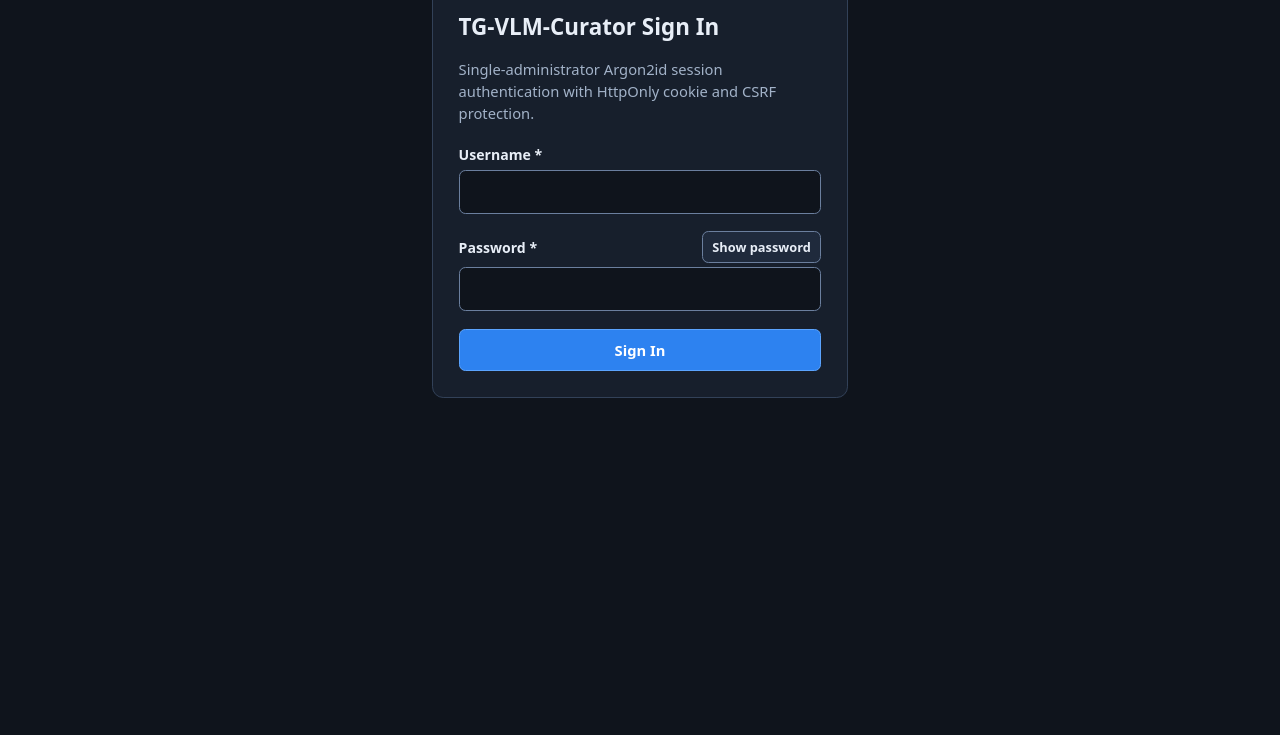
Scenario: TG-VLM-Curator M9 Web Administration Console › authenticates with autofill-compliant login form, attaches X-CSRF-Token on mutations, and logs out
This screenshot has width=1280, height=735.
Click the button "Show password": (762,247) x1=702 y1=231 x2=821 y2=263
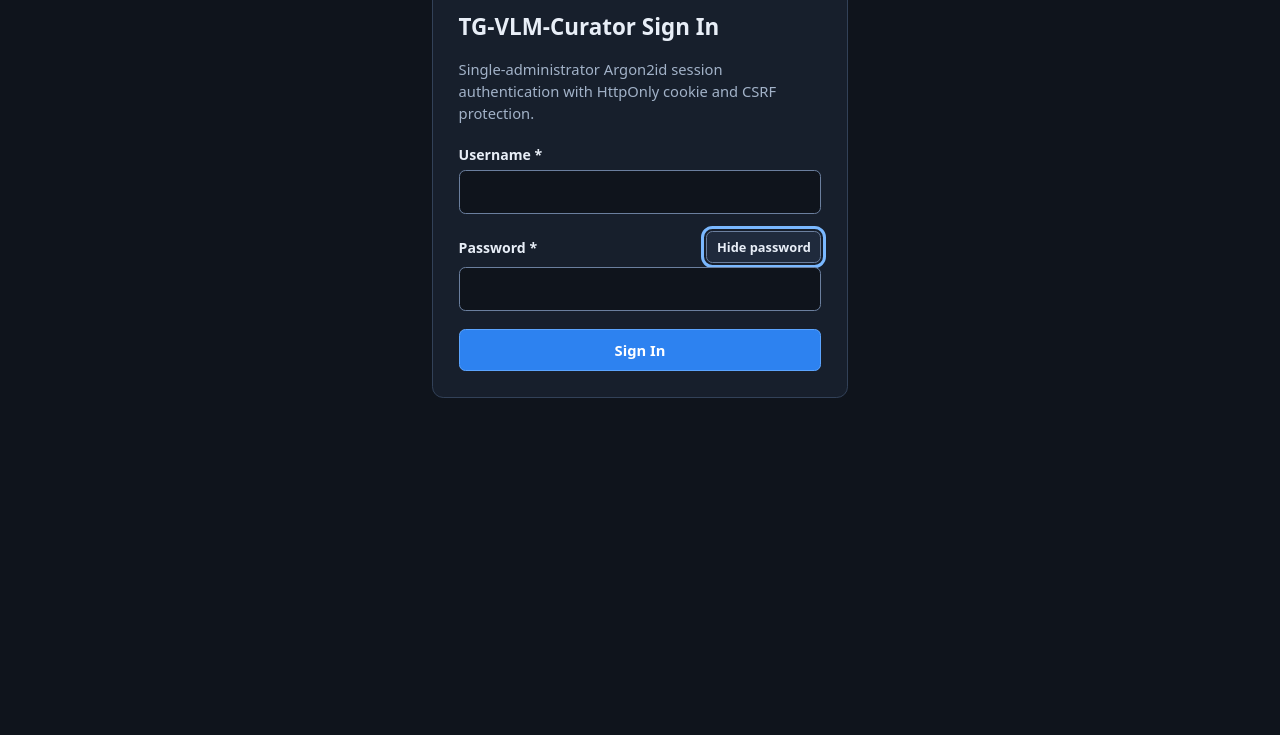
In the field labelled "Username *": (640,192) x1=459 y1=170 x2=821 y2=214, type "curator_admin"
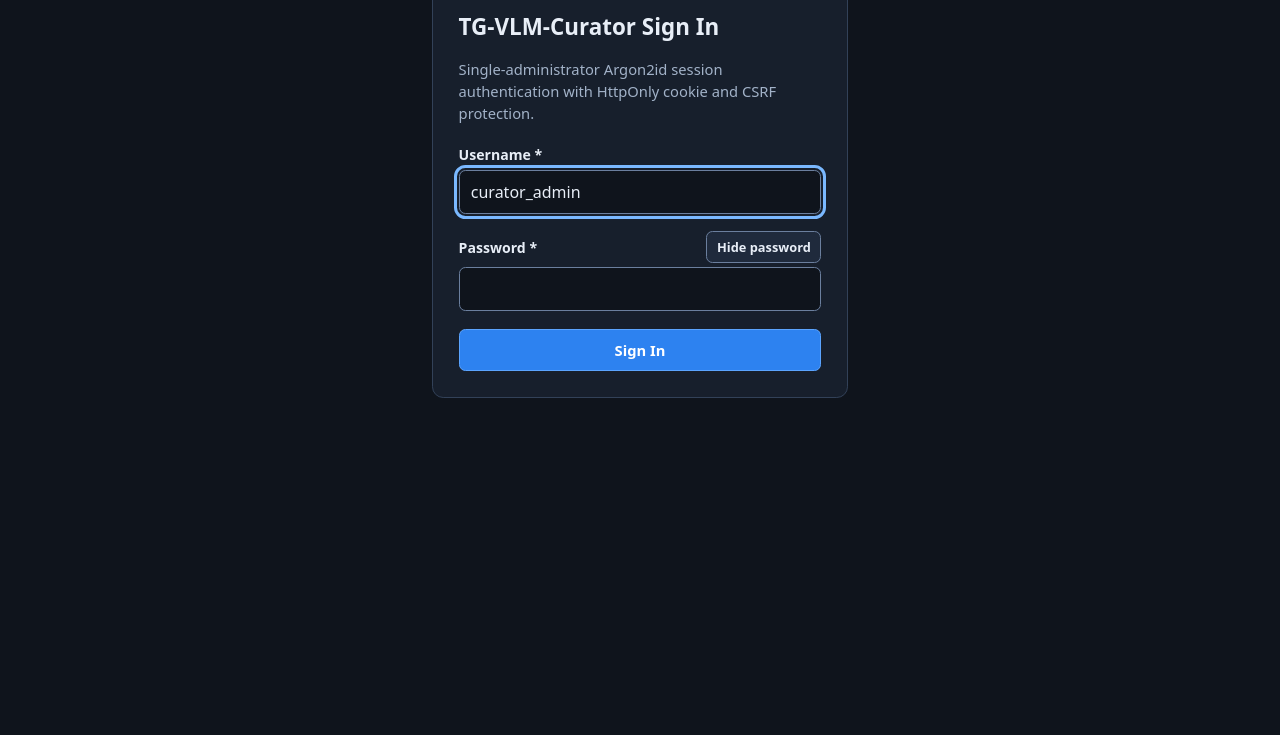
In the field labelled "Password *": (640,289) x1=459 y1=267 x2=821 y2=311, type "s3cr3t!"
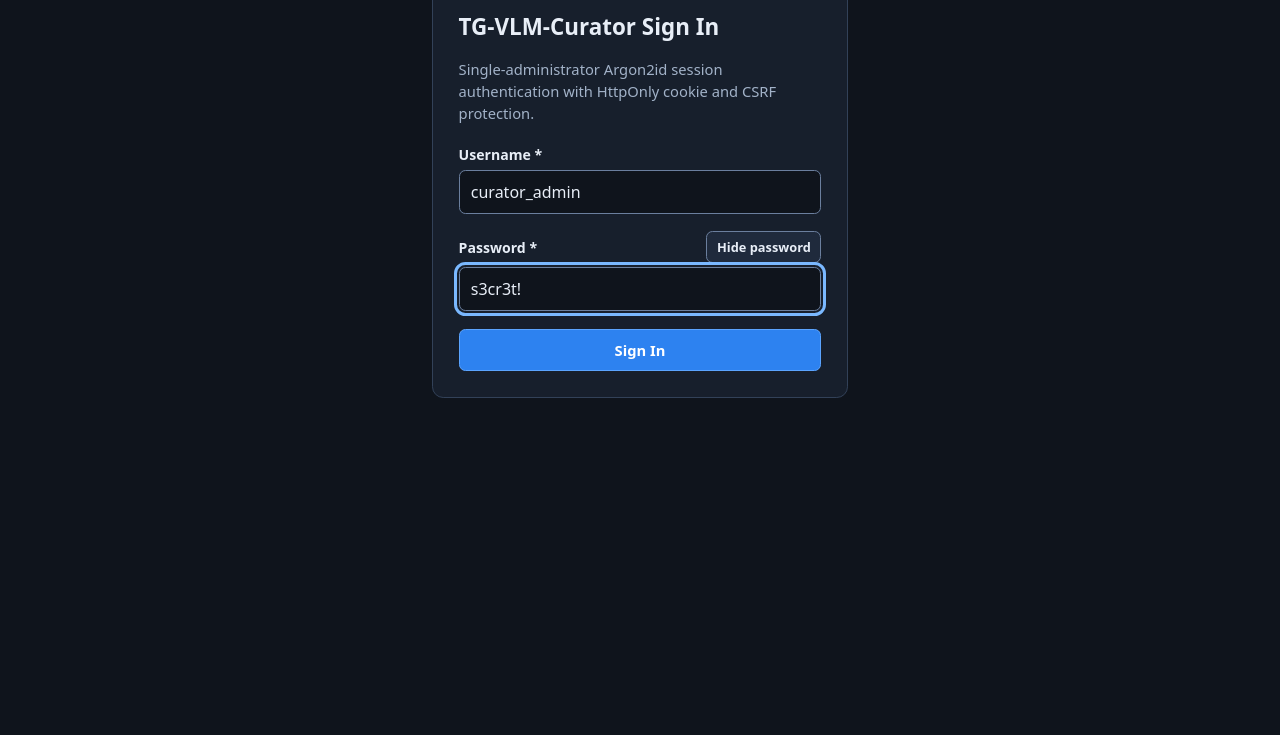
Click the button "Sign In": (640,350) x1=459 y1=329 x2=821 y2=371
(page scrolled)
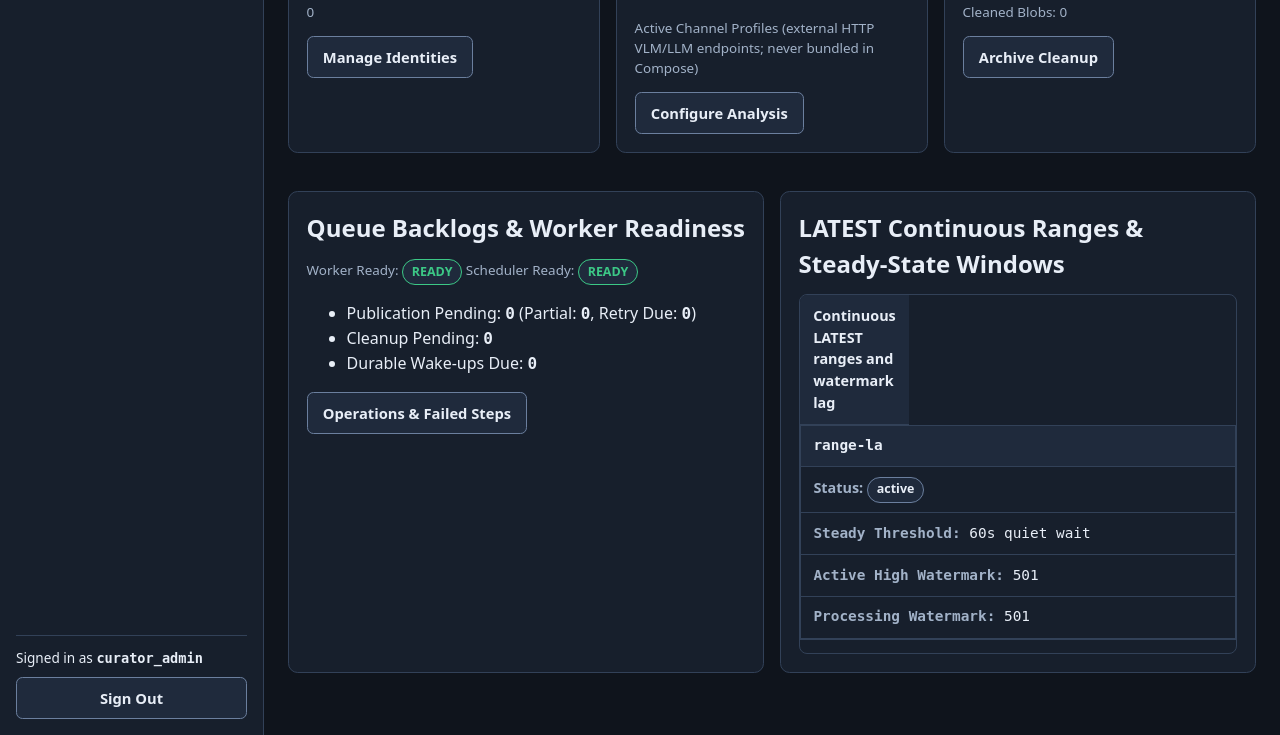
Click the button "Sign Out": (132,698) x1=16 y1=677 x2=247 y2=719
(page scrolled)
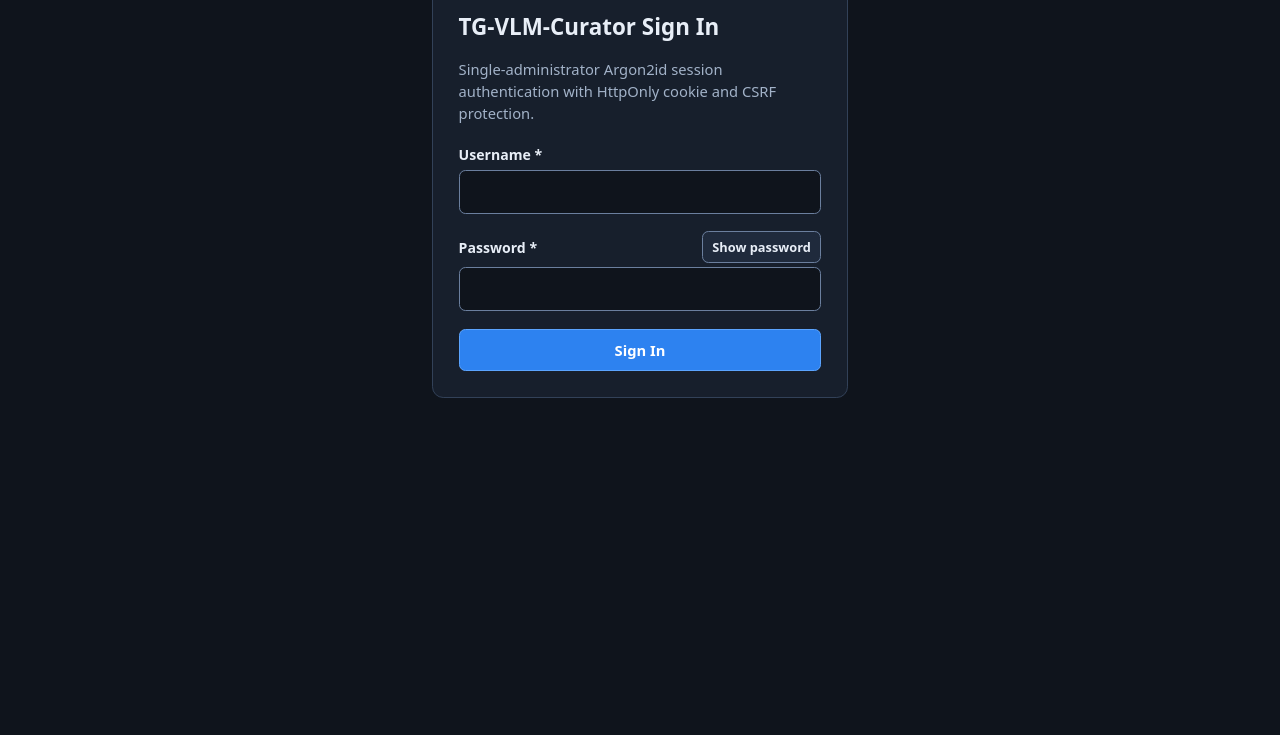
Result: the heading "TG-VLM-Curator Sign In" is shown at x1=459 y1=11 x2=719 y2=42
